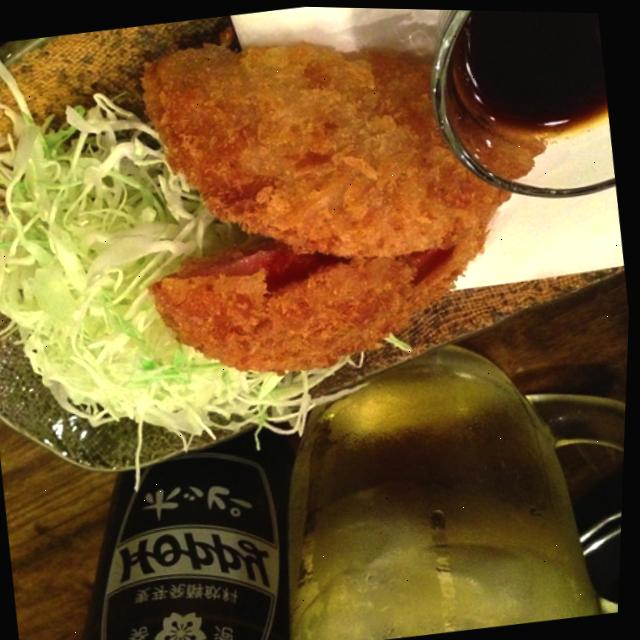炸货点心: (103, 2, 591, 409)
